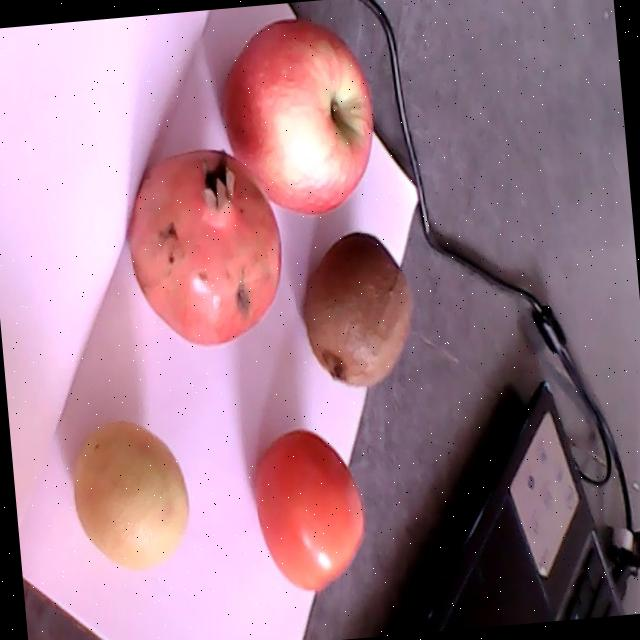apple: (222, 19, 372, 212)
kiwi: (302, 232, 411, 387)
lemon: (73, 420, 188, 564)
pomegranate: (127, 146, 279, 345)
tomato: (254, 431, 363, 589)
